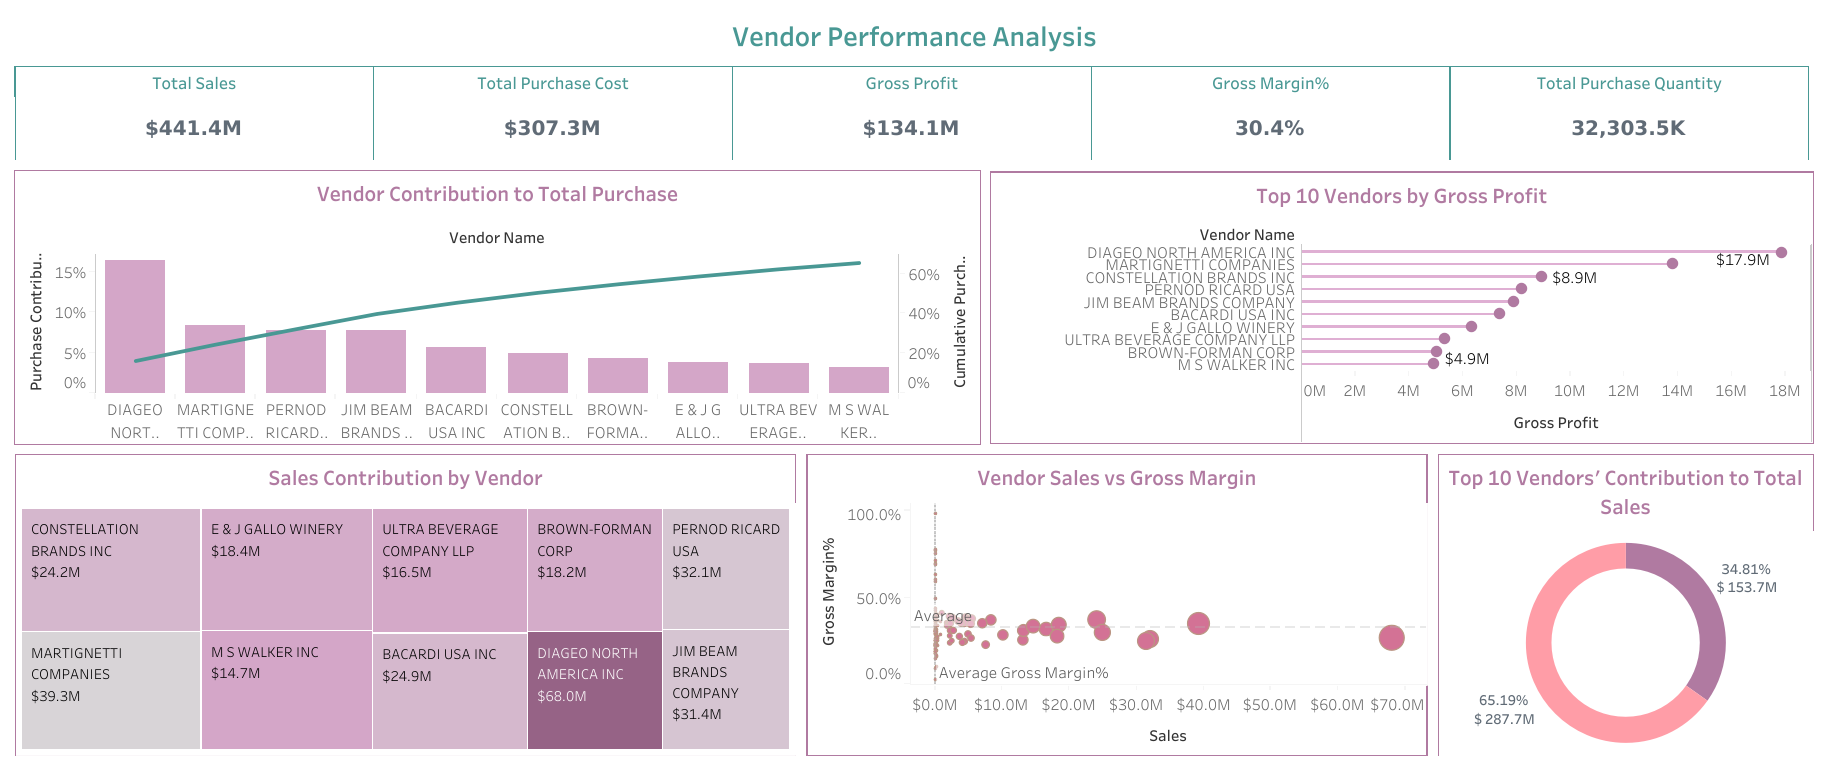

The dashboard page shown, as its layout file describes it:
{"tool":"tableau","page":{"name":"Vendor Performance Analysis","canvas":[1000,1000],"units":"permille","ordinal":0},"visuals":[{"type":"text","box":[4.2,10,991.5,39.9]},{"type":"worksheet","title":"KPIs","mark":"Automatic","box":[4.2,49.9,991.5,102.4]},{"type":"worksheet","title":"Vendor Contribution to Total Purchase","mark":"Automatic","rows":["Calculation_0467875334127620","Calculation_0467875337158662"],"cols":["VendorName"],"box":[4.2,158.5,448.1,508.1]},{"type":"worksheet","title":"Top 10 Vendors by Gross Profit","mark":"Circle","rows":["VendorName"],"cols":["GrossProfit","GrossProfit"],"box":[452.3,158.5,543.4,508.1]},{"type":"worksheet","title":"Sales Contribution by Vendor","mark":"Automatic","box":[4.2,666.7,321.5,323.3]},{"type":"worksheet","title":"Vendor Sales vs Gross Margin","mark":"Circle","rows":["Calculation_0467875291926528"],"cols":["TotalSalesDollars"],"box":[325.8,666.7,367.6,323.3]},{"type":"worksheet","title":"Top 10 Vendors' Contribution to Total Sales","mark":"Pie","cols":["Calculation_0467875325911043","Calculation_0467875325911043"],"box":[693.3,666.7,302.4,323.3]}]}

Visuals, with their boxes on the dashboard's canvas, which has no fixed pixel size, in thousandths of its width and height (x1, y1, x2, y2). These are canvas units, not pixel positions in the 1828x770 screenshot, which may show the page scaled, cropped or inside an application window:
text: BBox(4, 10, 996, 50)
"KPIs" worksheet: BBox(4, 50, 996, 152)
"Vendor Contribution to Total Purchase" worksheet: BBox(4, 158, 452, 667)
"Top 10 Vendors by Gross Profit" worksheet (Circle marks): BBox(452, 158, 996, 667)
"Sales Contribution by Vendor" worksheet: BBox(4, 667, 326, 990)
"Vendor Sales vs Gross Margin" worksheet (Circle marks): BBox(326, 667, 693, 990)
"Top 10 Vendors' Contribution to Total Sales" worksheet (Pie marks): BBox(693, 667, 996, 990)
